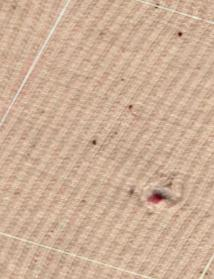hole: (135, 180, 178, 213)
stain: (82, 133, 103, 153), (121, 100, 140, 118), (168, 25, 185, 44), (147, 0, 167, 15)
